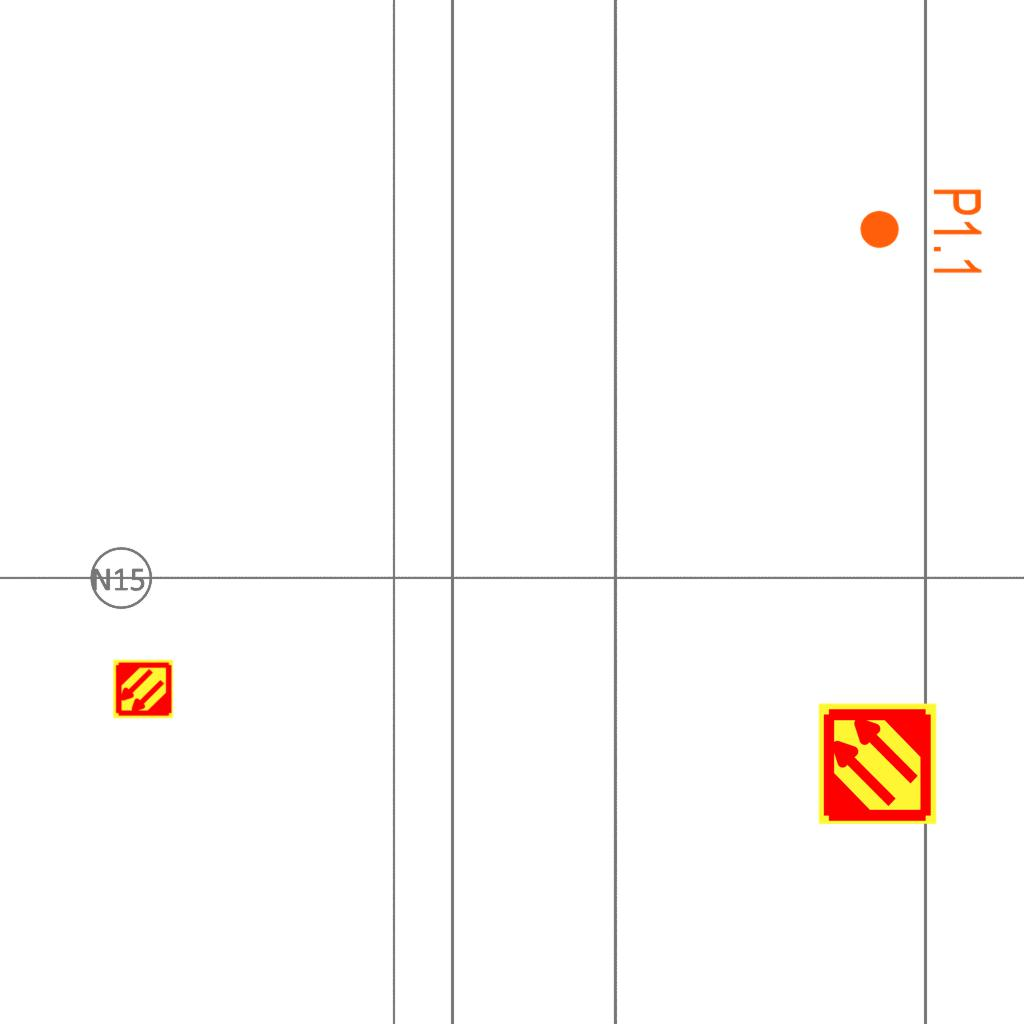ASR_Ansaugrauchmelder: (815, 701, 940, 826), (112, 658, 174, 720)
Downlight_LED_Einbauleuchten_Flur: (857, 186, 985, 279)
